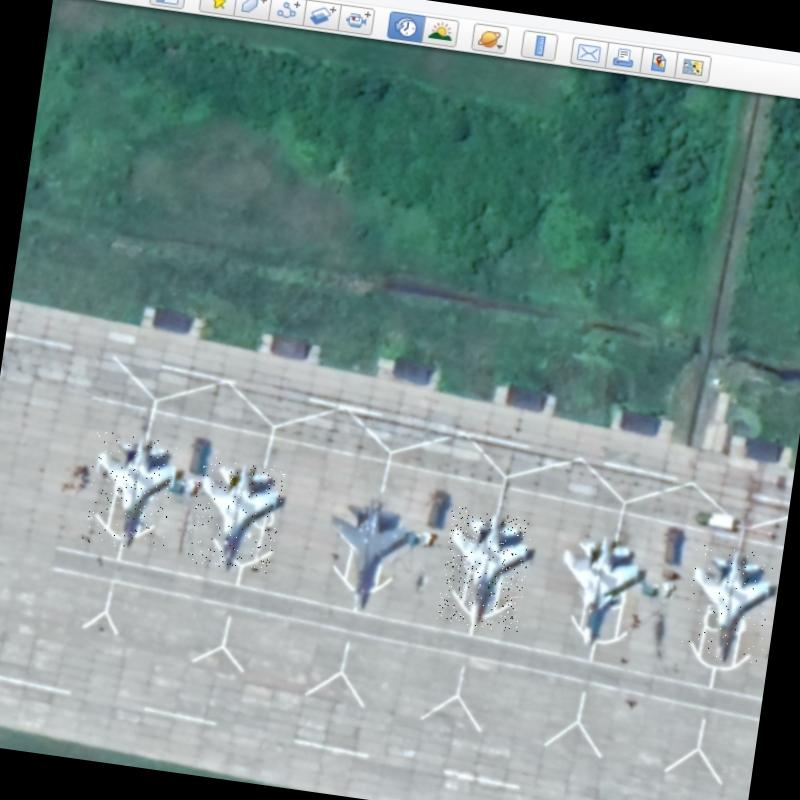A1: (81, 429, 181, 553), (436, 506, 533, 632), (678, 540, 776, 664), (186, 455, 286, 575), (316, 492, 413, 614)
A19: (547, 528, 646, 654)
